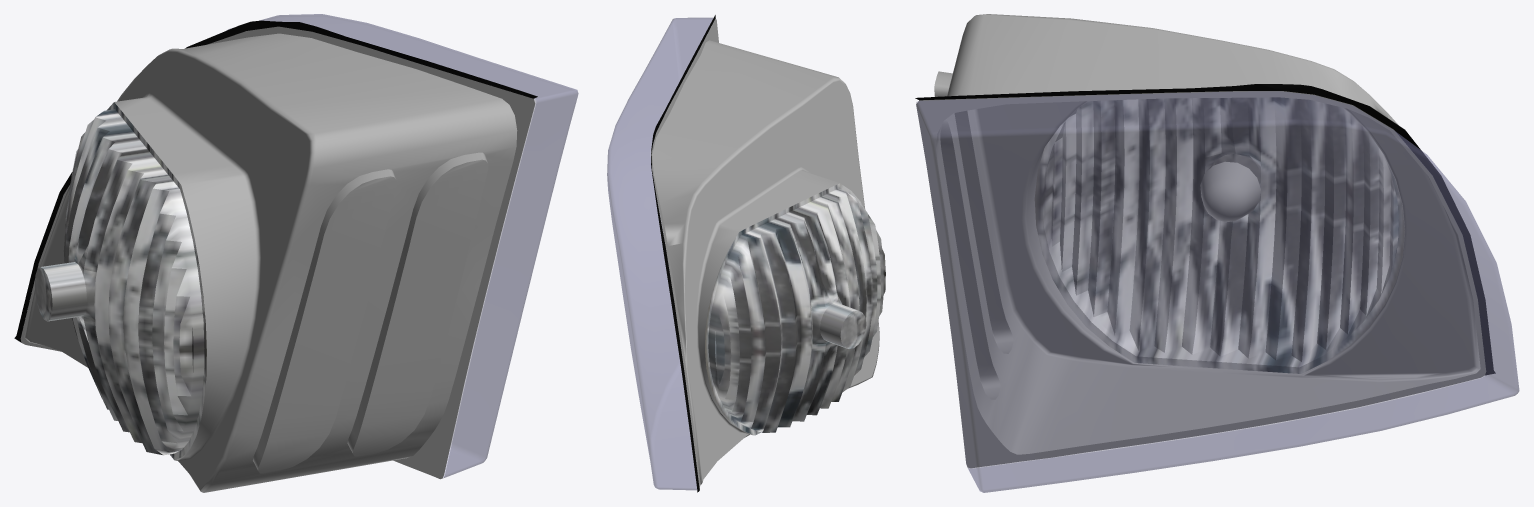
3 renders of one model, left to right at view 1: azimuth 30°, elevation 25°; view 2: azimuth 150°, elevation 25°; view 3: azimuth 270°, elevation 25°, orthographic. The views are drawn at different scales.
Parts seen in each view (by area): view 1: P222_15_061B_L_P222_15_061B_L_2_N, P222_15_061B_L_P222_15_061B_L_3_N, P222_15_061B_L_1_DTaSI_P222_15_061B_L, P222_15_061B_L_P222_15_061B_L_5_D; view 2: P222_15_061B_L_P222_15_061B_L_2_N, P222_15_061B_L_P222_15_061B_L_3_N, P222_15_061B_L_1_DTaSI_P222_15_061B_L, P222_15_061B_L_P222_15_061B_L_5_D; view 3: P222_15_061B_L_1_DTaSI_P222_15_061B_L, P222_15_061B_L_P222_15_061B_L_2_N, P222_15_061B_L_P222_15_061B_L_3_N, P222_15_061B_L_P222_15_061B_L_5_D, P222_15_061B_L_P222_15_061B_L_4_N.
Boxes of the visible parts, x1,y1,x2,y2 form: P222_15_061B_L_P222_15_061B_L_2_N: (20, 26, 535, 492); P222_15_061B_L_P222_15_061B_L_3_N: (35, 102, 206, 460); P222_15_061B_L_1_DTaSI_P222_15_061B_L: (226, 14, 578, 477); P222_15_061B_L_P222_15_061B_L_5_D: (14, 20, 537, 342); P222_15_061B_L_P222_15_061B_L_2_N: (651, 18, 879, 489); P222_15_061B_L_P222_15_061B_L_3_N: (705, 183, 885, 435); P222_15_061B_L_1_DTaSI_P222_15_061B_L: (607, 17, 713, 490); P222_15_061B_L_P222_15_061B_L_5_D: (651, 15, 715, 492); P222_15_061B_L_1_DTaSI_P222_15_061B_L: (916, 91, 1519, 492); P222_15_061B_L_P222_15_061B_L_2_N: (916, 14, 1486, 468); P222_15_061B_L_P222_15_061B_L_3_N: (1034, 97, 1404, 373); P222_15_061B_L_P222_15_061B_L_5_D: (915, 84, 1495, 375); P222_15_061B_L_P222_15_061B_L_4_N: (1200, 162, 1260, 222).
Size of the model in its own units: 20.6 by 19.25 by 25.91.
